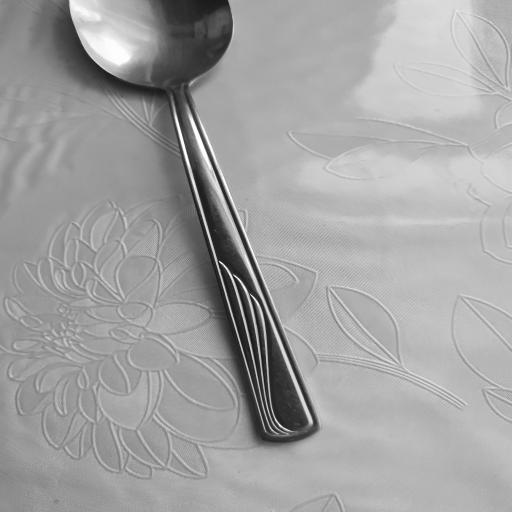spoon: (77, 0, 319, 441)
